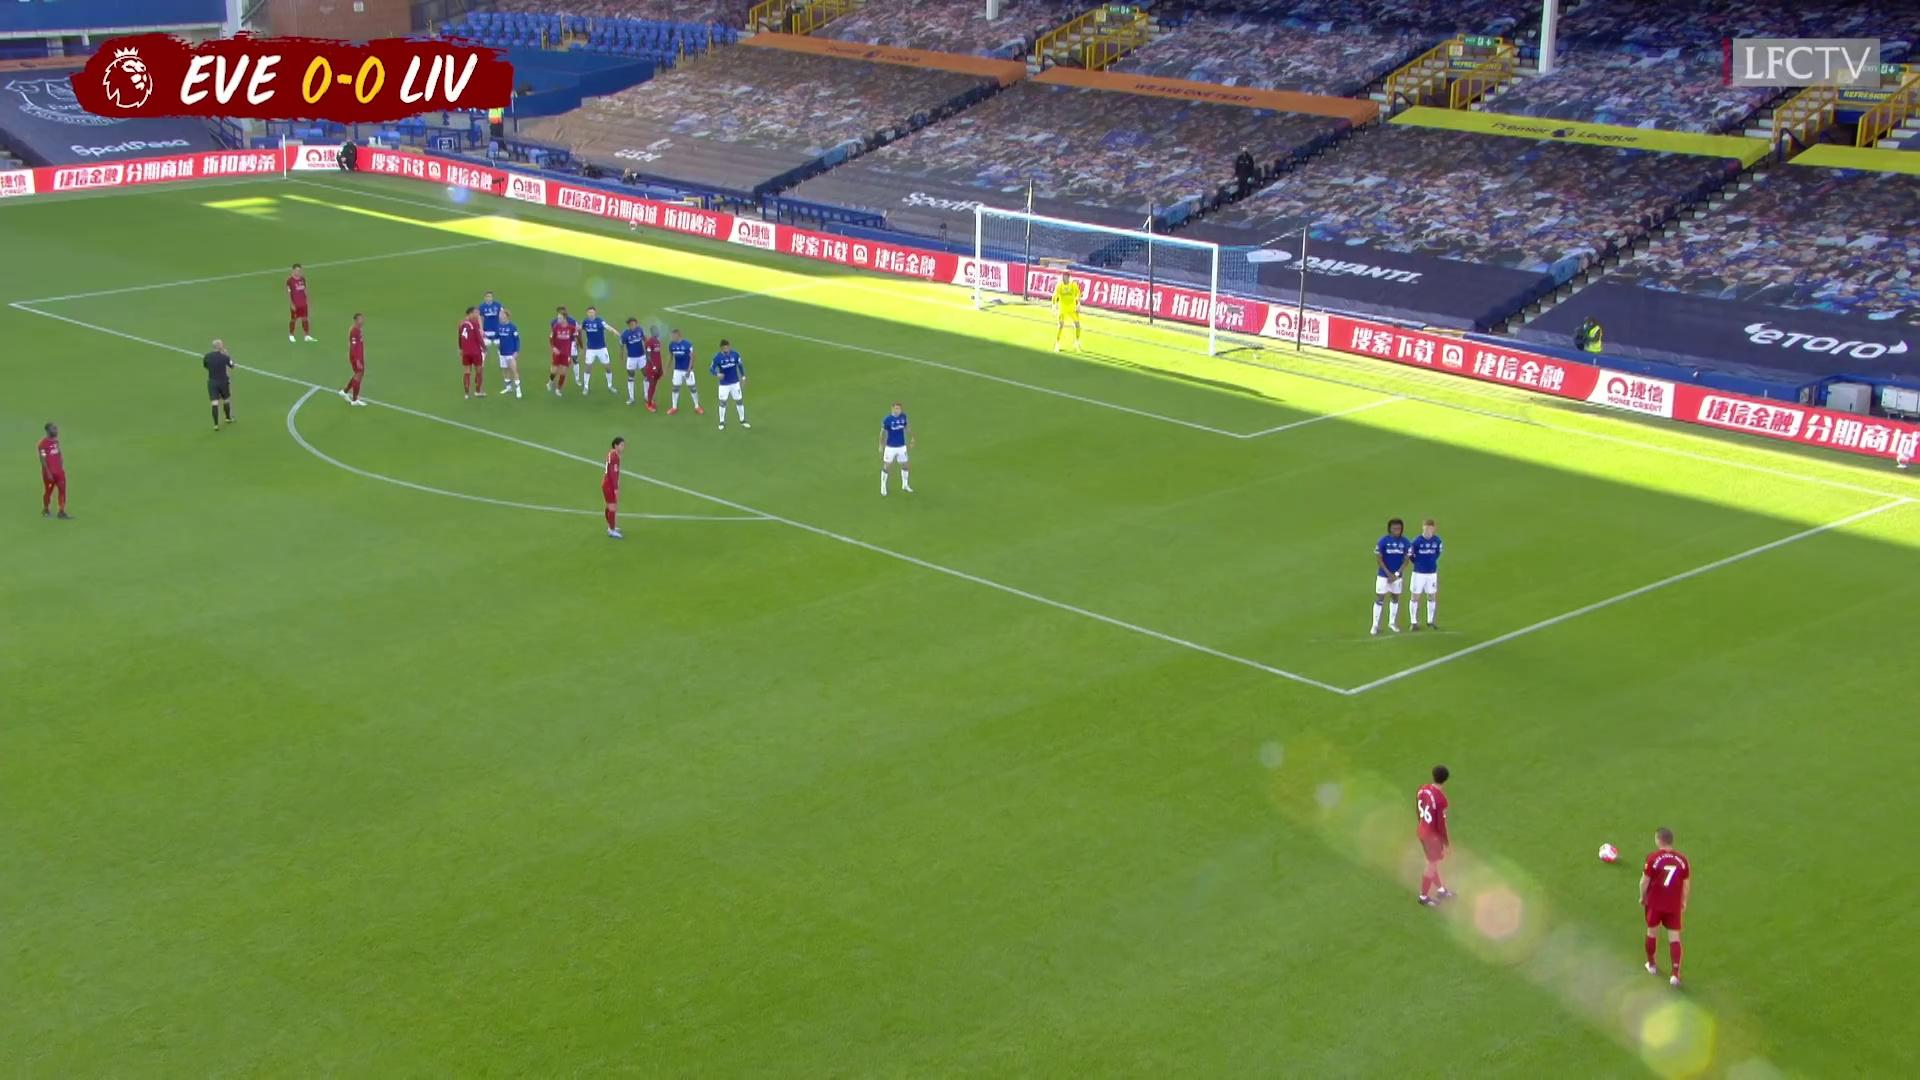ball: (1592, 836, 1626, 875), (1891, 446, 1915, 475), (625, 217, 643, 236)
goalkeeper: (1046, 269, 1089, 360)
player: (1632, 822, 1696, 992), (1411, 758, 1464, 916), (1367, 513, 1410, 637), (706, 335, 755, 432), (34, 417, 78, 525), (1409, 515, 1445, 637), (576, 302, 622, 397), (664, 324, 708, 419), (481, 308, 525, 400), (877, 401, 919, 497), (470, 287, 512, 383), (543, 312, 587, 401), (617, 316, 659, 407), (598, 433, 632, 542), (453, 302, 490, 400), (548, 303, 586, 390), (282, 261, 320, 347), (337, 309, 369, 410), (644, 322, 665, 415)
referee: (199, 336, 240, 434)
